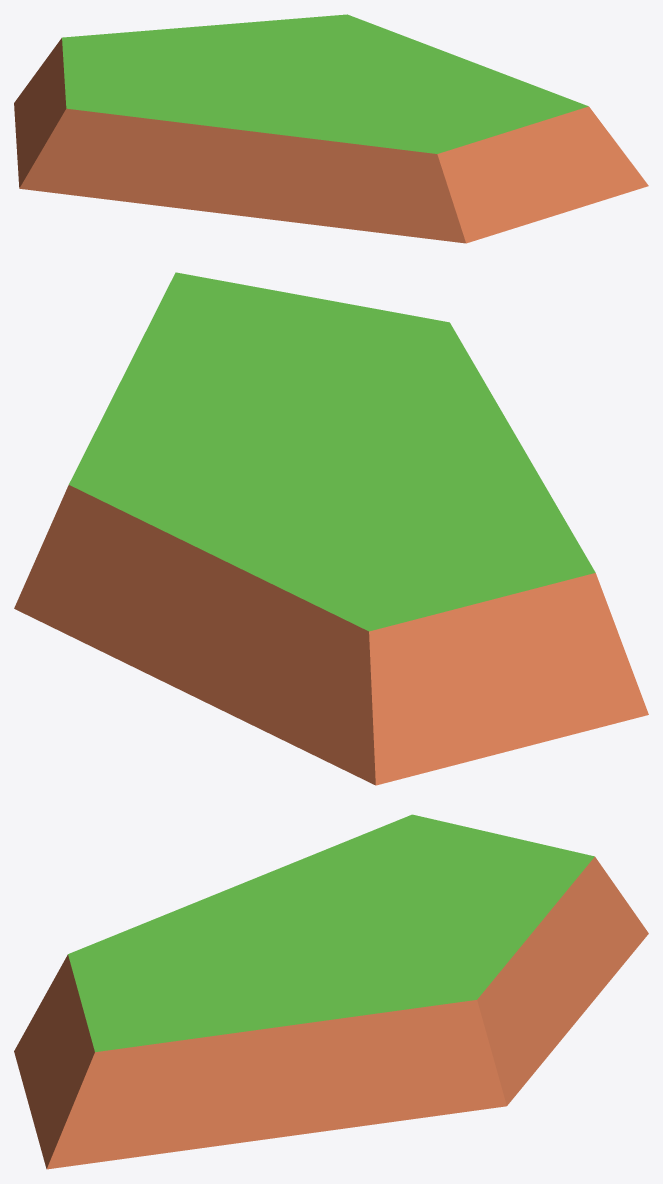
Rendered from rock_smallFlatB.glb.
3 renders of one model, top to bottom at view 1: azimuth 30°, elevation 25°; view 2: azimuth 150°, elevation 25°; view 3: azimuth 270°, elevation 25°, orthographic. The views are drawn at different scales.
Visible parts, largest first — view 1: rock_smallFlatB; view 2: rock_smallFlatB; view 3: rock_smallFlatB.
Part boxes in pixels (<box>): rock_smallFlatB: <box>14,14,648,243</box>; rock_smallFlatB: <box>14,272,648,785</box>; rock_smallFlatB: <box>14,814,648,1169</box>.
Bounding box in the file's own units: 0.4295 × 0.0649 × 0.4024.
